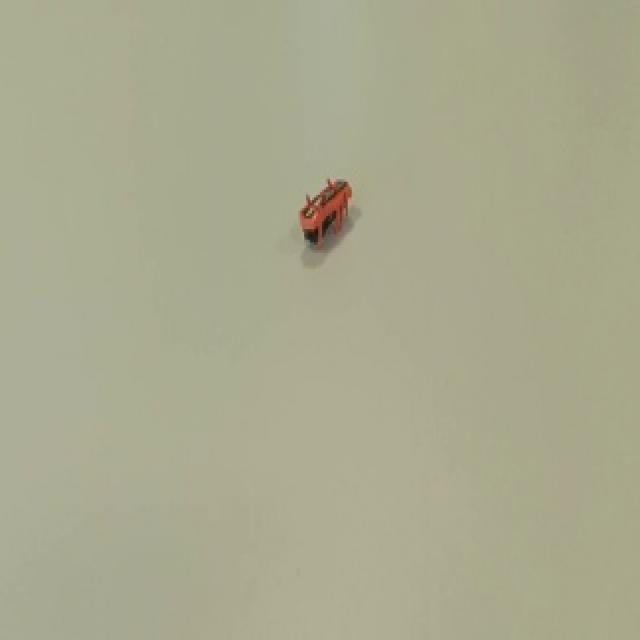7_NanoBug_Naranja: (274, 133, 385, 271)
